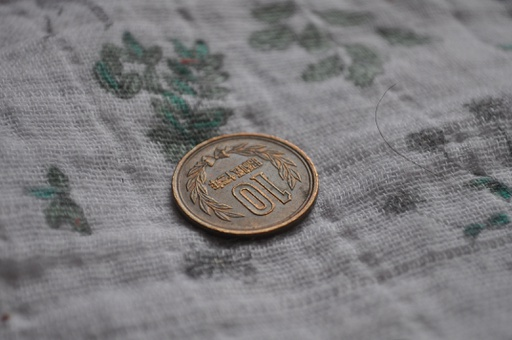10yen: (172, 133, 318, 238)
